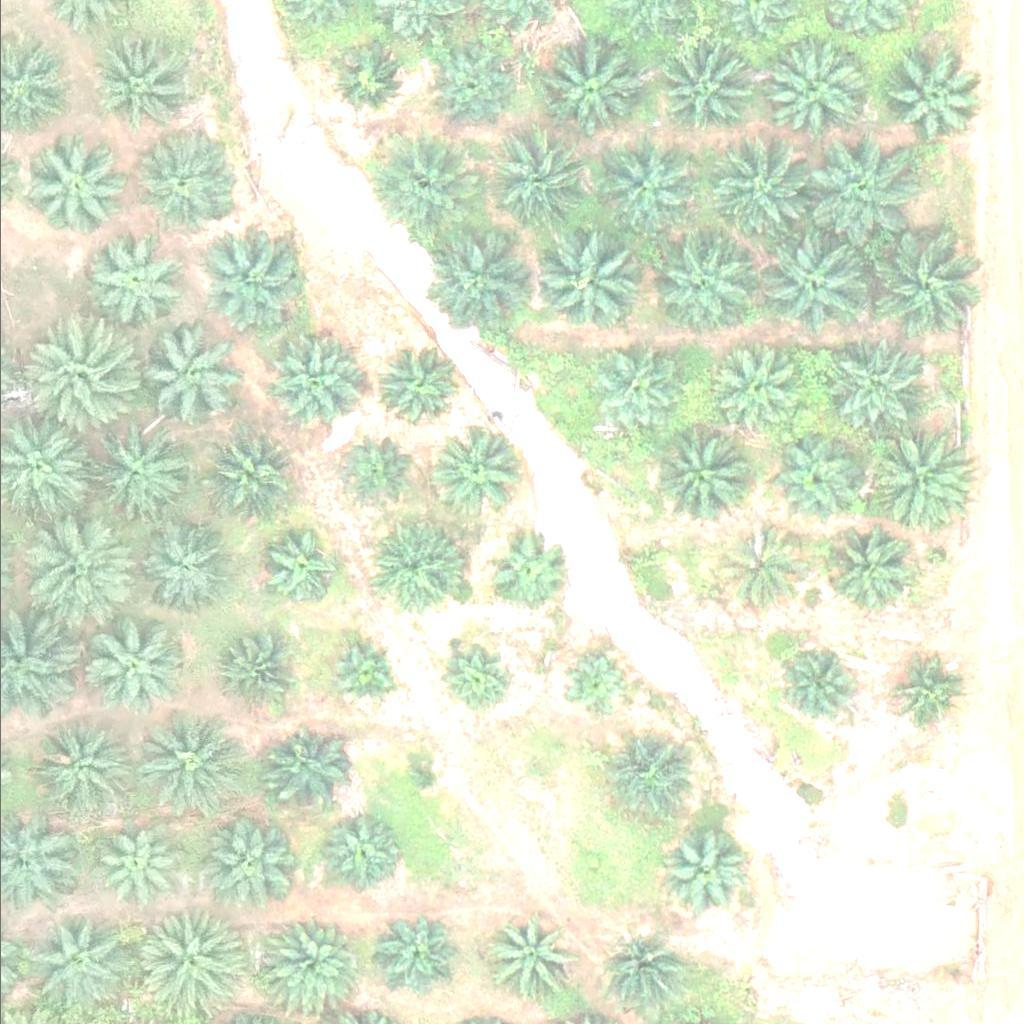Kelapa_Sawit: (649, 225, 763, 338), (862, 421, 976, 534), (22, 509, 136, 622), (539, 29, 652, 142), (803, 131, 916, 244), (359, 128, 472, 241), (755, 229, 868, 342), (538, 217, 651, 330), (756, 31, 869, 143), (699, 134, 812, 246), (478, 122, 591, 234), (867, 228, 980, 340), (415, 221, 528, 333), (132, 909, 245, 1021), (24, 319, 137, 431), (877, 41, 978, 141), (656, 34, 757, 134), (826, 339, 927, 439), (357, 513, 458, 613), (258, 915, 359, 1015), (190, 816, 291, 916), (77, 614, 178, 714), (140, 326, 241, 426), (201, 224, 302, 324), (136, 132, 237, 232), (87, 32, 188, 132), (23, 913, 124, 1013), (26, 137, 127, 237), (599, 133, 699, 233), (656, 421, 756, 521), (593, 725, 693, 825), (136, 714, 236, 814), (255, 329, 355, 429), (86, 228, 186, 328), (32, 717, 132, 817), (135, 517, 235, 617), (80, 424, 180, 524), (884, 649, 972, 737), (715, 522, 803, 610), (324, 37, 412, 125), (713, 343, 801, 431), (593, 346, 681, 434), (774, 436, 862, 524), (826, 526, 914, 614), (370, 912, 458, 1000), (83, 819, 171, 907), (265, 725, 353, 813), (485, 918, 574, 1005), (768, 644, 856, 731), (428, 43, 516, 130), (595, 931, 683, 1018), (665, 824, 753, 911), (482, 530, 570, 617), (202, 429, 290, 516), (201, 625, 289, 712), (324, 809, 412, 896), (433, 424, 521, 511), (370, 342, 458, 429), (260, 527, 336, 602), (320, 633, 396, 708), (437, 639, 513, 714), (557, 650, 633, 725), (330, 437, 405, 512), (402, 750, 452, 800)
